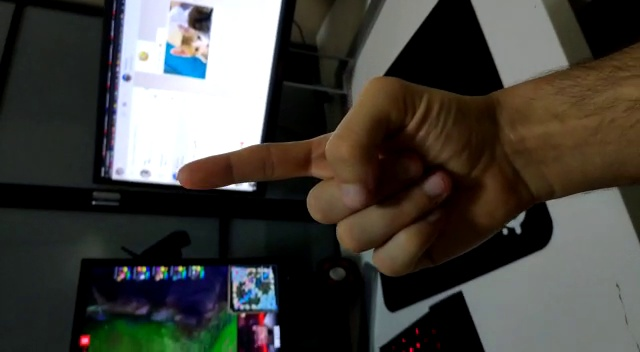One: (161, 117, 430, 246)
